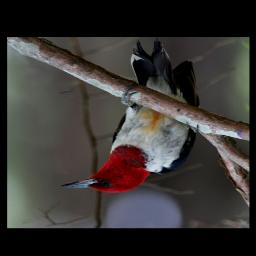Woodpecker: (60, 38, 199, 194)
